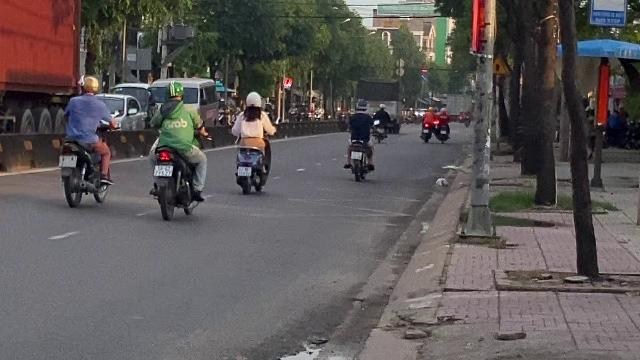helmet: (80, 74, 98, 94), (166, 82, 184, 100)
licenseplate: (154, 164, 172, 176), (60, 156, 76, 166)
motorcyclist: (144, 81, 208, 219), (56, 75, 114, 207)
